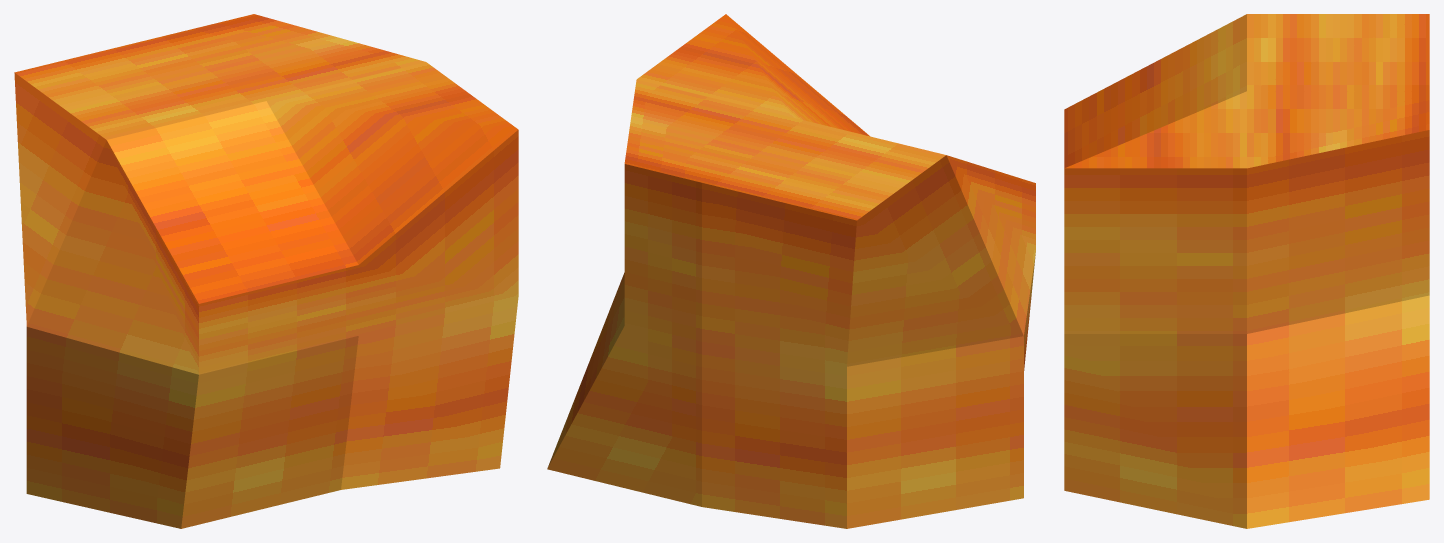
Rendered from sun.gltf.
3 renders of one model, left to right at view 1: azimuth 30°, elevation 25°; view 2: azimuth 150°, elevation 25°; view 3: azimuth 270°, elevation 25°, orthographic. The views are drawn at different scales.
Parts seen in each view (by area): view 1: mesh; view 2: mesh; view 3: mesh.
Boxes of the visible parts, bbox=[...] form: mesh: bbox=[14, 14, 518, 528]; mesh: bbox=[547, 14, 1035, 528]; mesh: bbox=[1064, 14, 1429, 528].
Bounding box in the file's own units: 4.06 × 3.62 × 3.25.
Materials: 1 (1 with a texture image).
